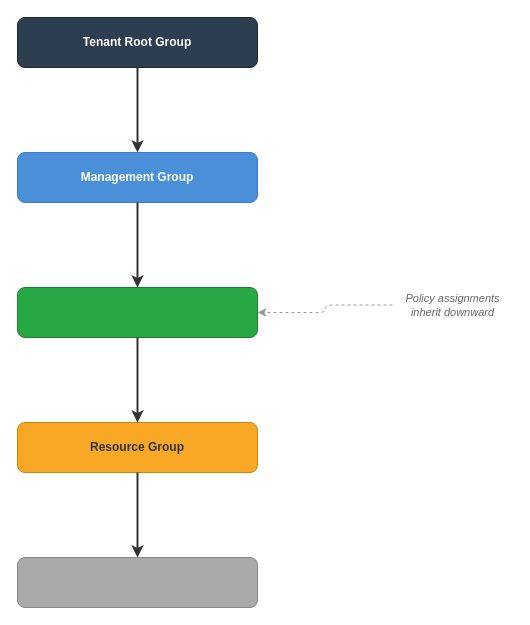
Image size: 530x625. Some labels were removed from this diagram. Each missing label, with the centre of its shape:
"Resource" belongs at (x=137, y=582).
"Subscription" belongs at (x=137, y=312).
